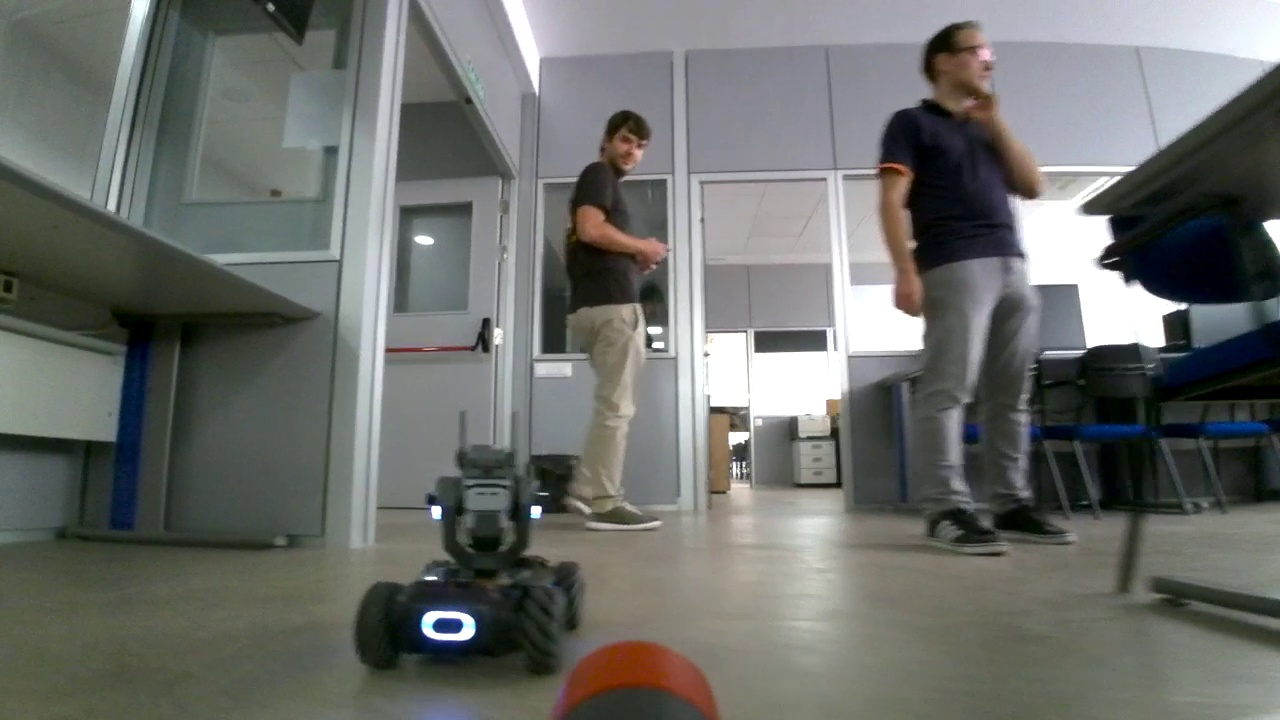robot: (354, 408, 585, 675)
